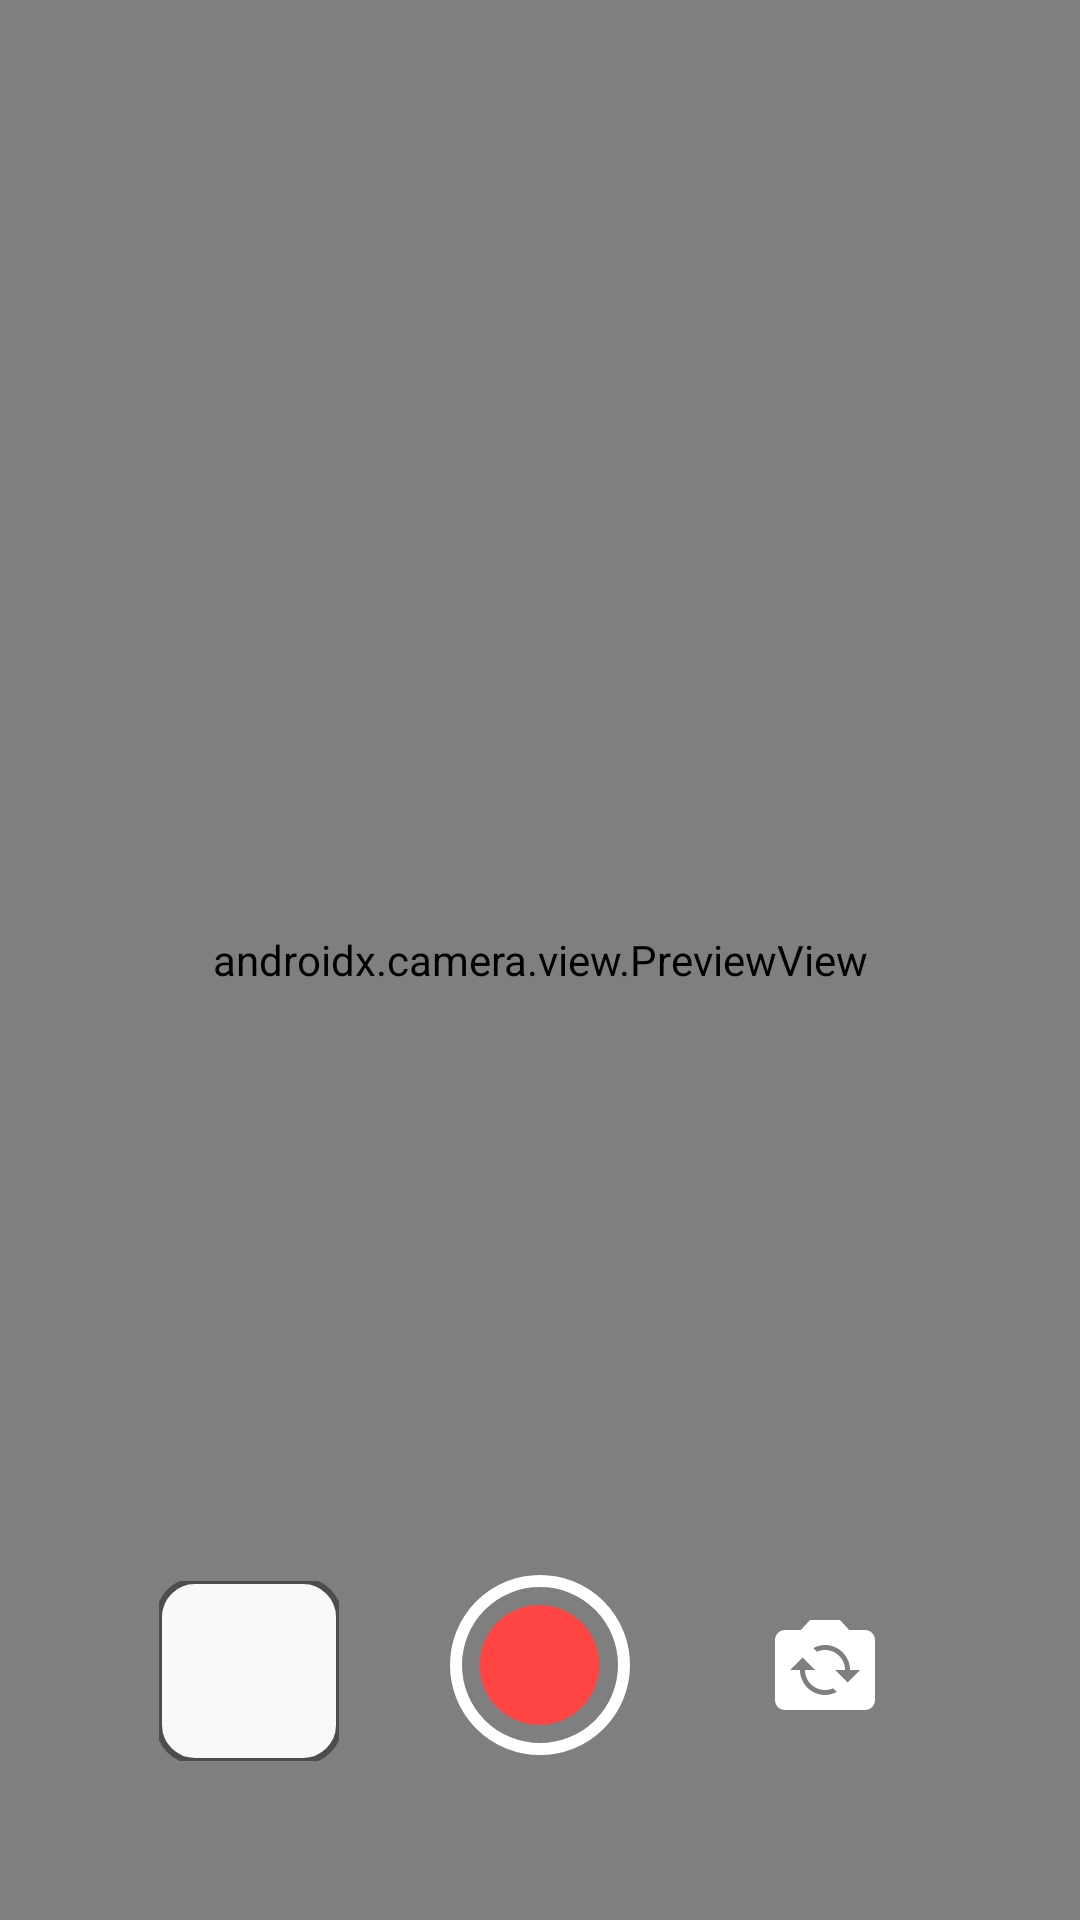

Named icons in this screenshot (1080w x 1920h) and their centers, (x=x, y=y):
video camera flip: (x=825, y=1665)
